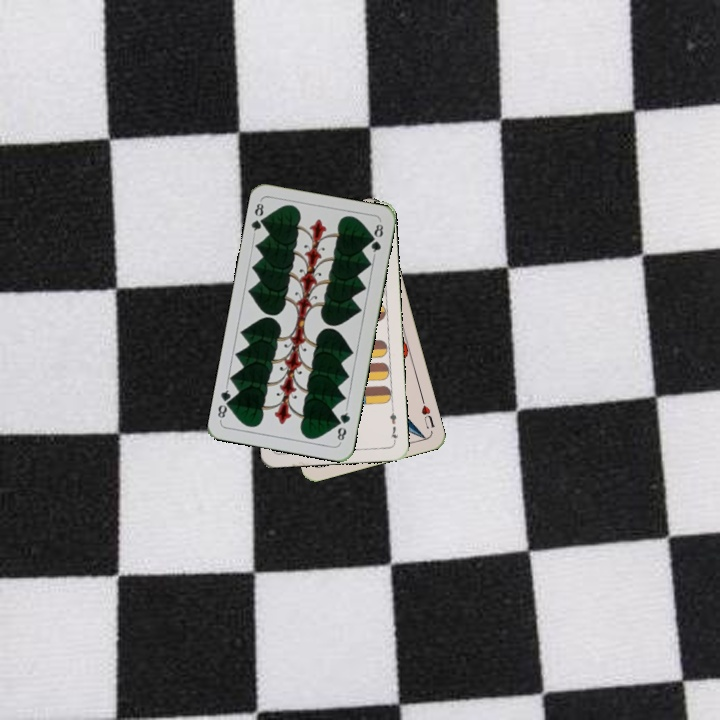E7: (386, 404, 401, 445)
G8: (247, 197, 269, 238), (333, 405, 353, 445)
HU: (417, 394, 437, 431)
